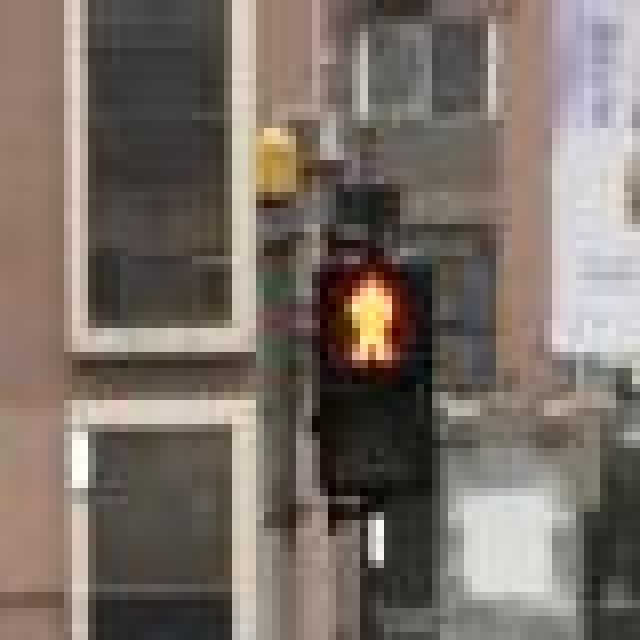redlight: (296, 240, 440, 504)
